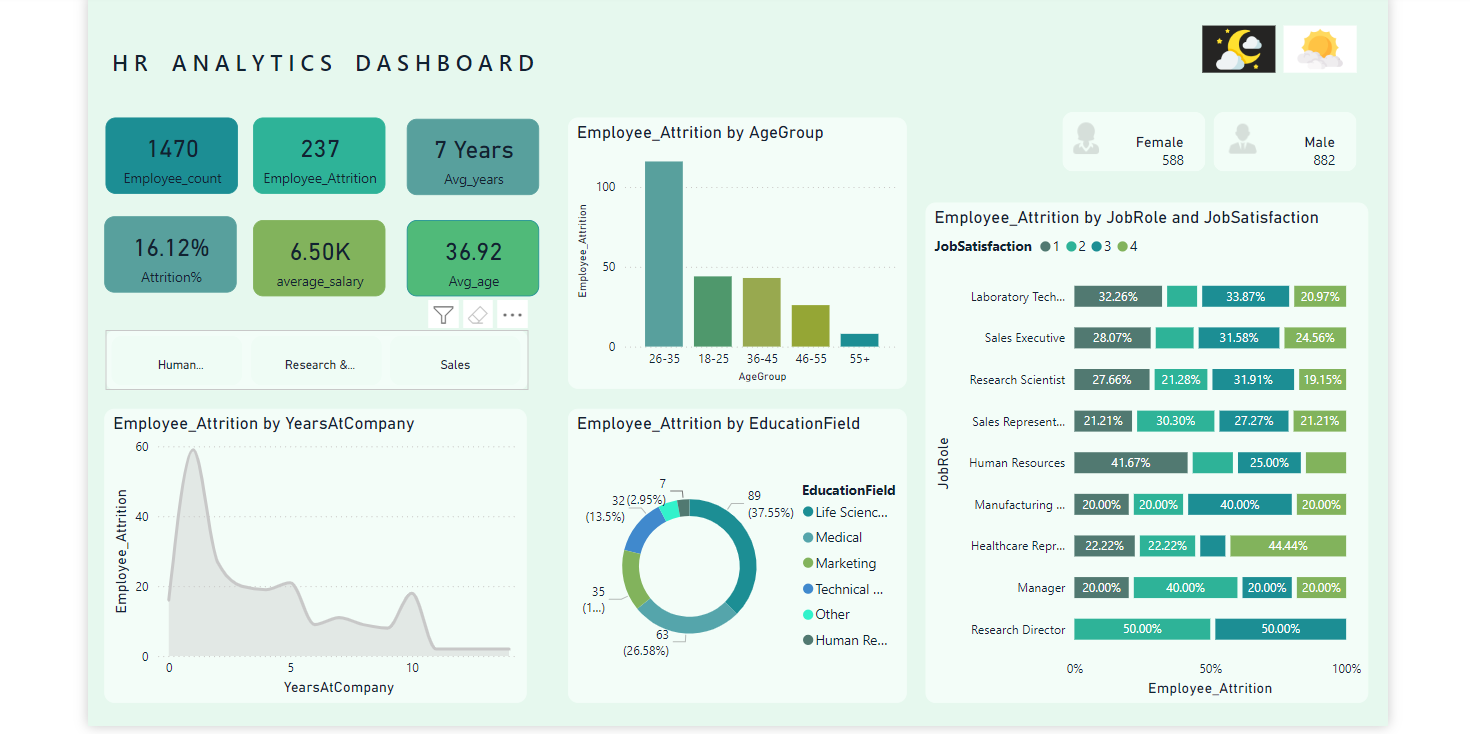

This screenshot's page, from the dashboard's own definition file:
{"tool":"powerbi","page":{"name":"Page 1","canvas":[1280,720],"ordinal":2},"visuals":[{"type":"image","box":[1125.2,135.8,48,42.5],"z":0},{"type":"card","fields":{"Values":["HR_Analytics.Employee_count"]},"box":[17.8,120.8,130.4,75.5],"z":1000},{"type":"card","fields":{"Values":["HR_Analytics.Avg_years_with_text"]},"box":[314.2,122.1,130.4,75.5],"z":2000},{"type":"card","fields":{"Values":["HR_Analytics.Attrition%"]},"box":[16.5,218.2,130.4,75.5],"z":3000},{"type":"card","fields":{"Values":["HR_Analytics.Avg_age"]},"box":[314.2,220.9,130.4,75.5],"z":4000},{"type":"card","fields":{"Values":["HR_Analytics.average_salary"]},"box":[161.9,220.9,130.4,75.5],"z":5000},{"type":"card","fields":{"Values":["HR_Analytics.Employee_Attrition"]},"box":[161.9,120.8,130.4,75.5],"z":6000},{"type":"areaChart","fields":{"Y":["HR_Analytics.Employee_Attrition"],"Category":["HR_Analytics.YearsAtCompany"]},"box":[16.5,407.5,415.8,289.5],"z":7000},{"type":"donutChart","fields":{"Y":["HR_Analytics.Employee_Attrition"],"Category":["HR_Analytics.EducationField"]},"box":[472,407.5,333.4,289.5],"z":8000},{"type":"clusteredColumnChart","fields":{"Category":["HR_Analytics.AgeGroup"],"Y":["HR_Analytics.Employee_Attrition"]},"box":[472,120.8,333.4,267.6],"z":9000},{"type":"hundredPercentStackedBarChart","fields":{"Y":["HR_Analytics.Employee_Attrition"],"Category":["HR_Analytics.JobRole"],"Series":["HR_Analytics.JobSatisfaction"]},"box":[824.7,204.5,436.4,492.6],"z":10000},{"type":"image","box":[975.6,124.9,45.3,61.7],"z":11000},{"type":"advancedSlicerVisual","fields":{"Values":["HR_Analytics.Gender"]},"box":[953.7,118,307.4,75.5],"z":12000},{"type":"advancedSlicerVisual","fields":{"Values":["HR_Analytics.Department"]},"box":[17.8,329.3,415.8,59],"z":13000},{"type":"textbox","box":[20.5,30.2,506.5,51.9],"z":14000}]}

Visuals, with their boxes on the page's 1280x720 design canvas (x1, y1, x2, y2). These are canvas units, not pixel positions in the 1470x734 screenshot, which may show the page scaled, cropped or inside an application window:
image: box=[1125, 136, 1173, 178]
card - HR_Analytics.Employee_count: box=[18, 121, 148, 196]
card - HR_Analytics.Avg_years_with_text: box=[314, 122, 445, 198]
card - HR_Analytics.Attrition%: box=[16, 218, 147, 294]
card - HR_Analytics.Avg_age: box=[314, 221, 445, 296]
card - HR_Analytics.average_salary: box=[162, 221, 292, 296]
card - HR_Analytics.Employee_Attrition: box=[162, 121, 292, 196]
areaChart - HR_Analytics.Employee_Attrition x HR_Analytics.YearsAtCompany: box=[16, 408, 432, 697]
donutChart - HR_Analytics.Employee_Attrition x HR_Analytics.EducationField: box=[472, 408, 805, 697]
clusteredColumnChart - HR_Analytics.AgeGroup x HR_Analytics.Employee_Attrition: box=[472, 121, 805, 388]
hundredPercentStackedBarChart - HR_Analytics.Employee_Attrition x HR_Analytics.JobRole: box=[825, 204, 1261, 697]
image: box=[976, 125, 1021, 187]
advancedSlicerVisual - HR_Analytics.Gender: box=[954, 118, 1261, 194]
advancedSlicerVisual - HR_Analytics.Department: box=[18, 329, 434, 388]
textbox: box=[20, 30, 527, 82]
